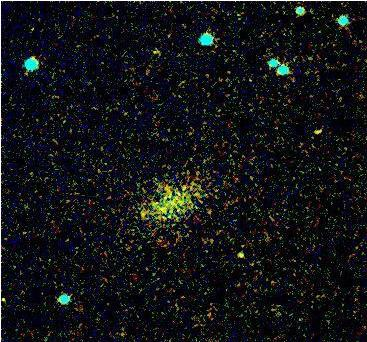star: (230, 239, 260, 269)
